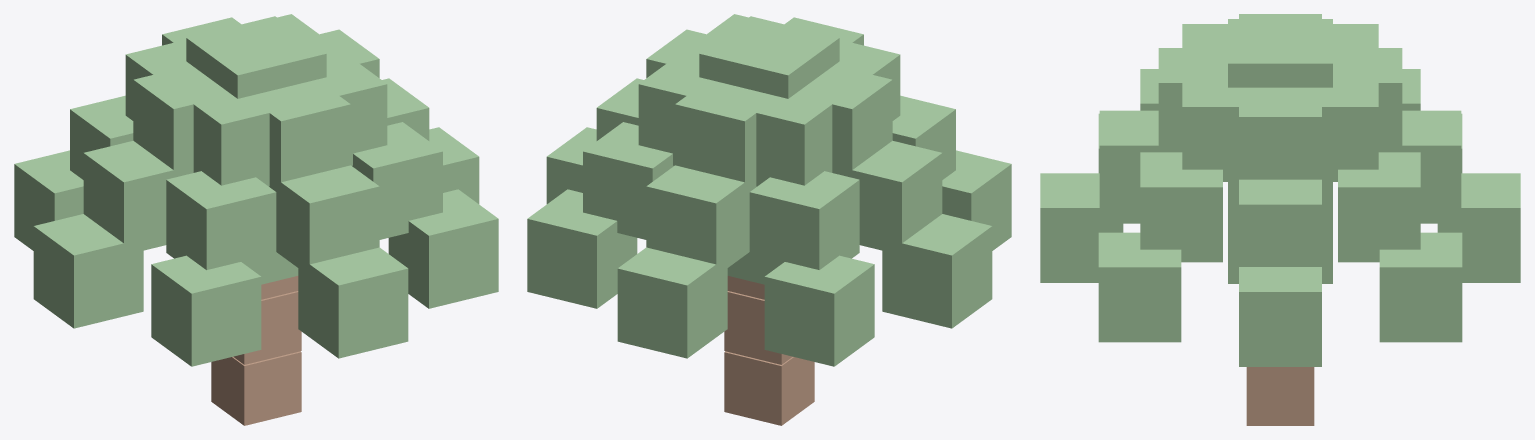
The model's file is ember_prop_tree_00.glb.
The picture shows the model from 3 angles, left to right: view 1: azimuth 30°, elevation 25°; view 2: azimuth 150°, elevation 25°; view 3: azimuth 270°, elevation 25°; orthographic projection. The views are drawn at different scales.
Parts seen in each view (by area): view 1: ember_prop_tree_00; view 2: ember_prop_tree_00; view 3: ember_prop_tree_00.
Part boxes in pixels (left/top/right/bottom): ember_prop_tree_00: left=14, top=14, right=498, bottom=425; ember_prop_tree_00: left=527, top=14, right=1011, bottom=425; ember_prop_tree_00: left=1040, top=14, right=1520, bottom=425.
Bounding box in the file's own units: 3.13 × 2.66 × 3.13.
